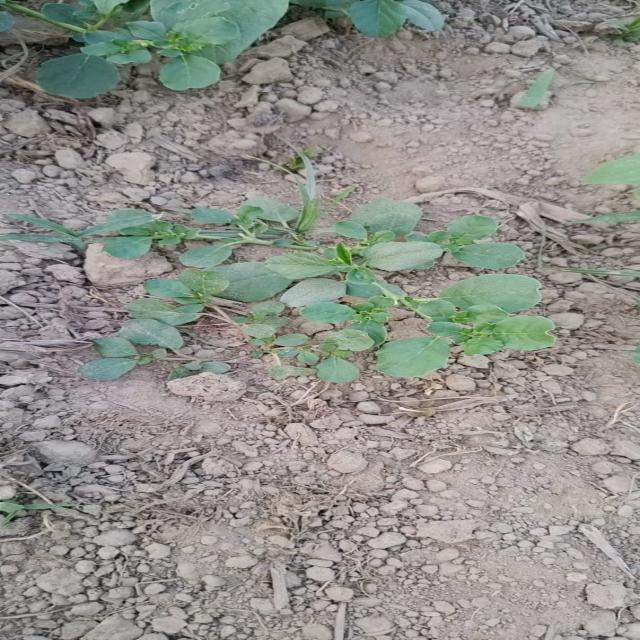plant: (84, 160, 555, 381)
